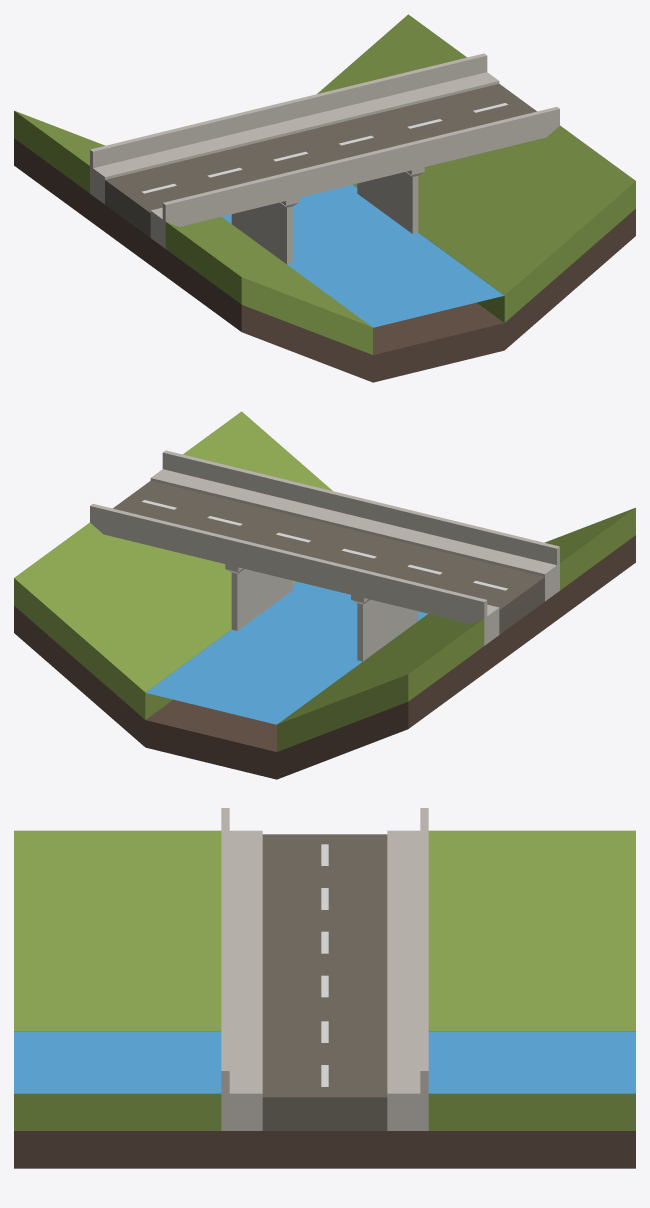
Rendered from road-tile-bridge.fbx.
The picture shows the model from 3 angles, top to bottom: view 1: azimuth 30°, elevation 25°; view 2: azimuth 150°, elevation 25°; view 3: azimuth 270°, elevation 25°; orthographic projection. The views are drawn at different scales.
Visible parts, largest first — view 1: road-tile-bridge; view 2: road-tile-bridge; view 3: road-tile-bridge.
Boxes of the visible parts, x1=… form: road-tile-bridge: x1=14, y1=14, x2=635, y2=382; road-tile-bridge: x1=14, y1=411, x2=635, y2=779; road-tile-bridge: x1=14, y1=808, x2=635, y2=1168.
Bounding box in the file's own units: 3000 × 1120 × 3000.
